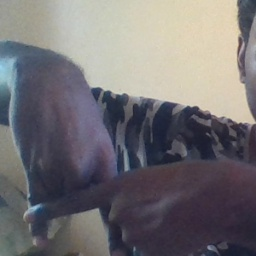H: (13, 137, 142, 244)
